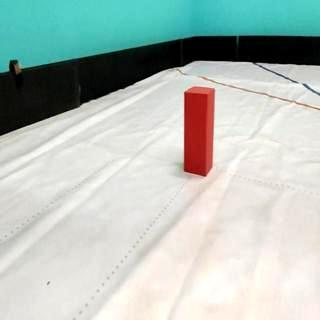redbox: (183, 84, 216, 177)
